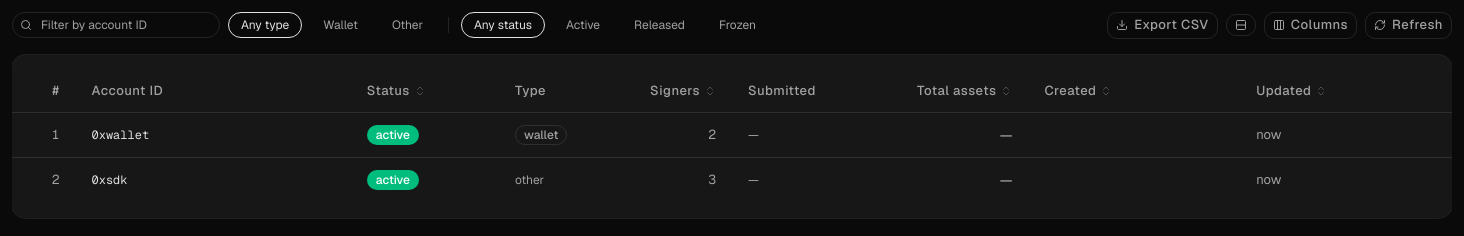
Scenario: AccountsPanel › badges ecdsa 2-signer accounts as wallet and filters on it
Check: the icon "wallet" is shown, box [515, 125, 567, 145]
Click the button "Wallet" at point(341, 25), box [310, 12, 371, 38]
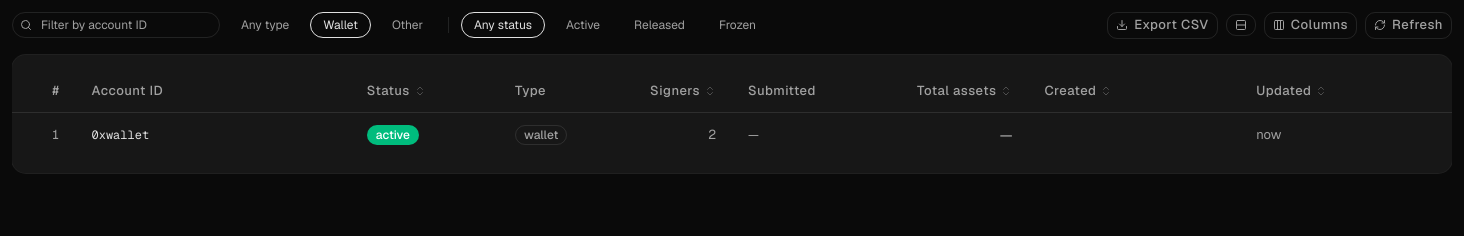
Check: the link "0xwallet" is shown, box [92, 127, 149, 143]
Check: the link "0xsdk" is gone
Click the button "Other" at point(407, 25), box [379, 12, 436, 38]
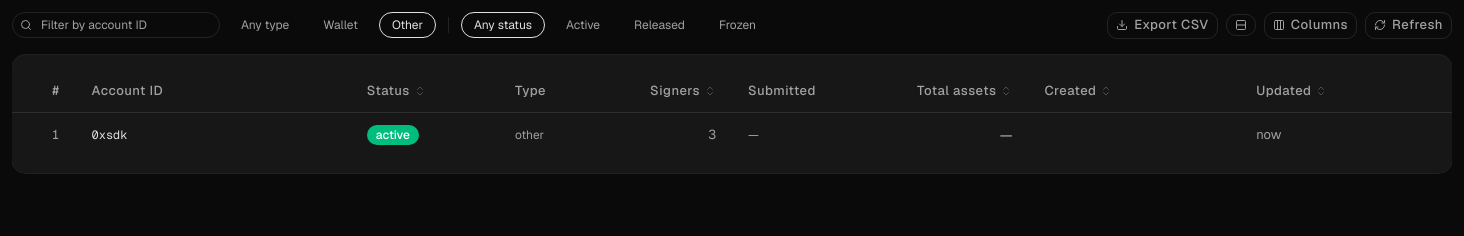
Check: the link "0xsdk" is shown, box [92, 127, 128, 143]
Check: the link "0xwallet" is gone
